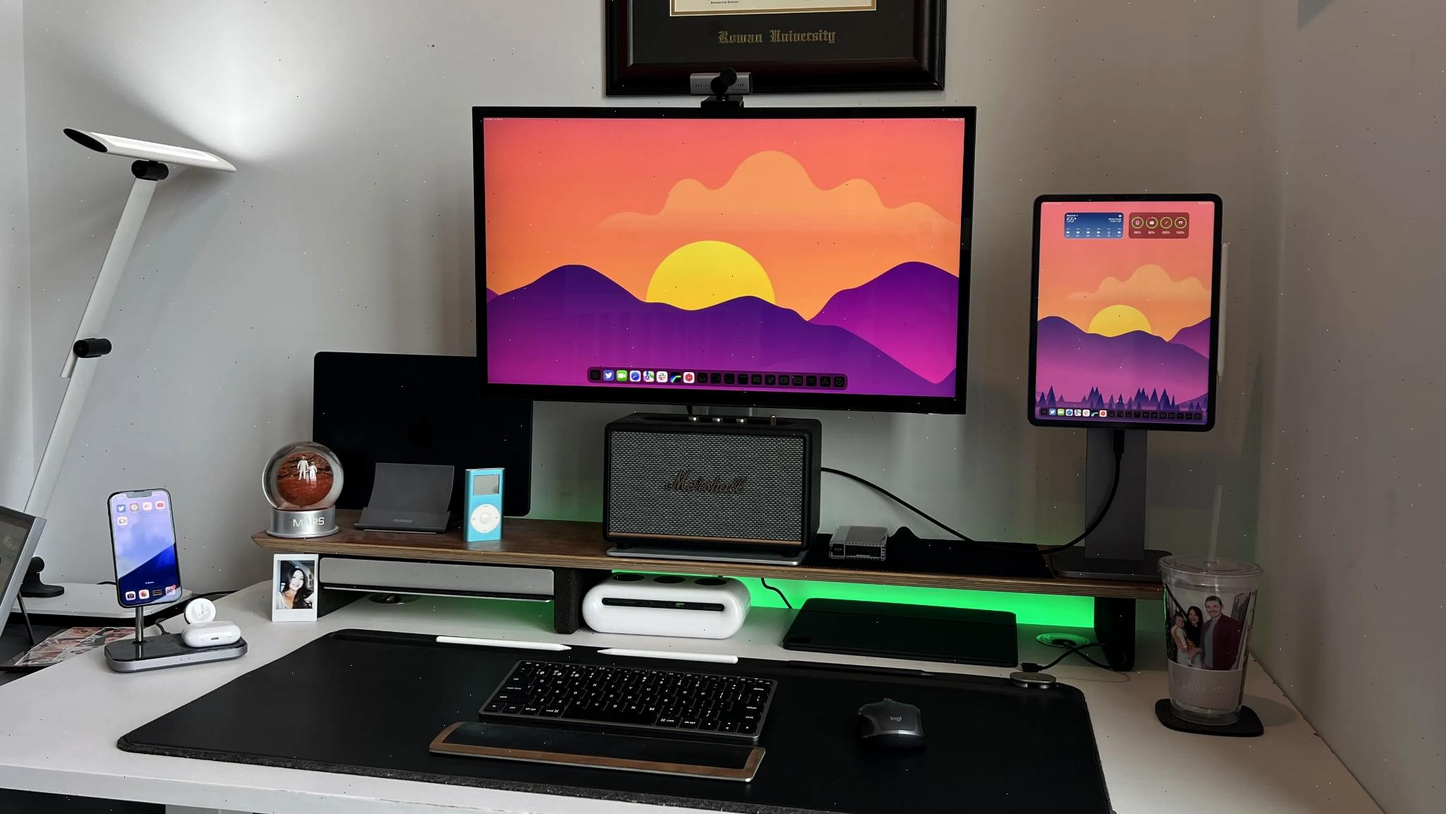keyboard: (473, 635, 789, 756)
mobile_phone: (90, 469, 205, 624)
monitor: (464, 97, 989, 437)
mouse: (846, 677, 939, 762)
speaker: (594, 402, 843, 577)
tablet: (1028, 183, 1227, 446), (307, 346, 542, 522)
webcam: (675, 66, 761, 102)
